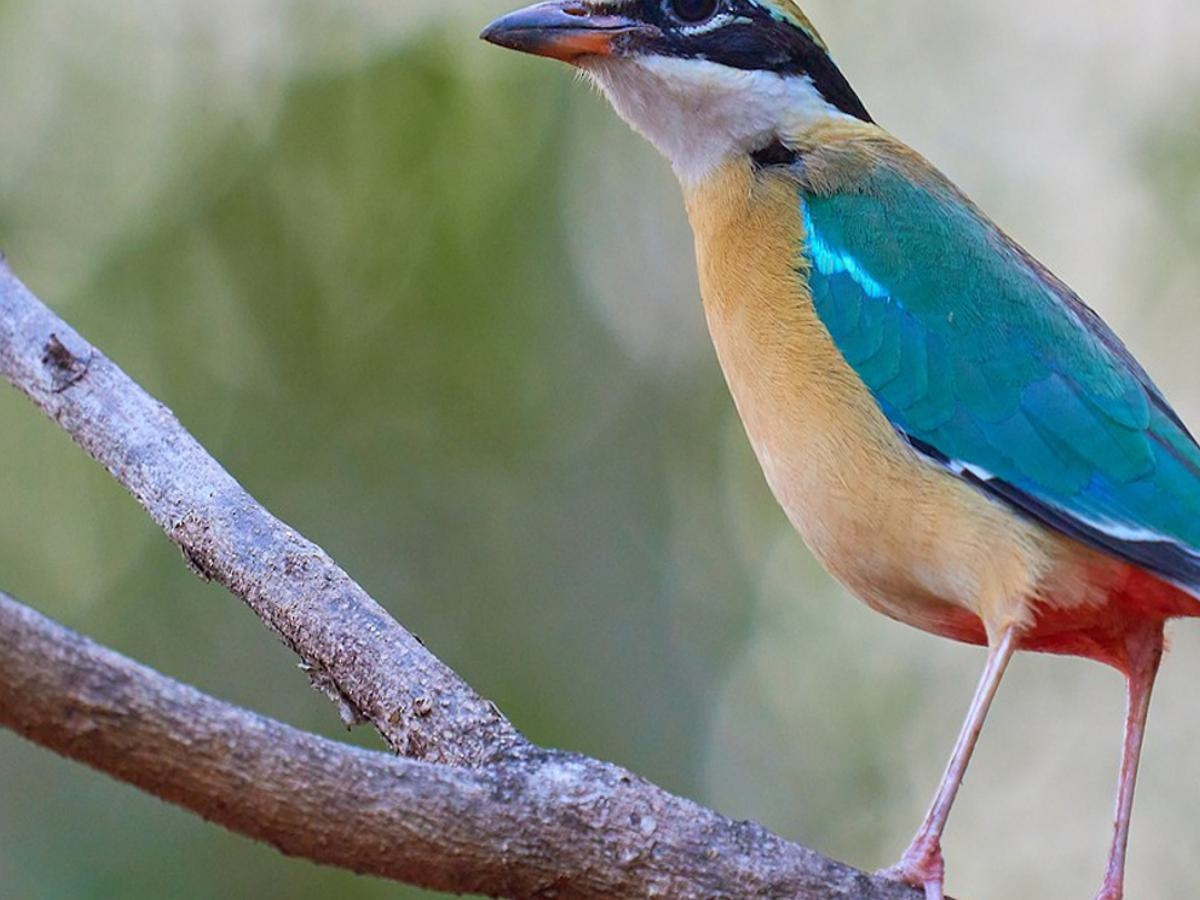pitta: (503, 1, 1200, 844)
